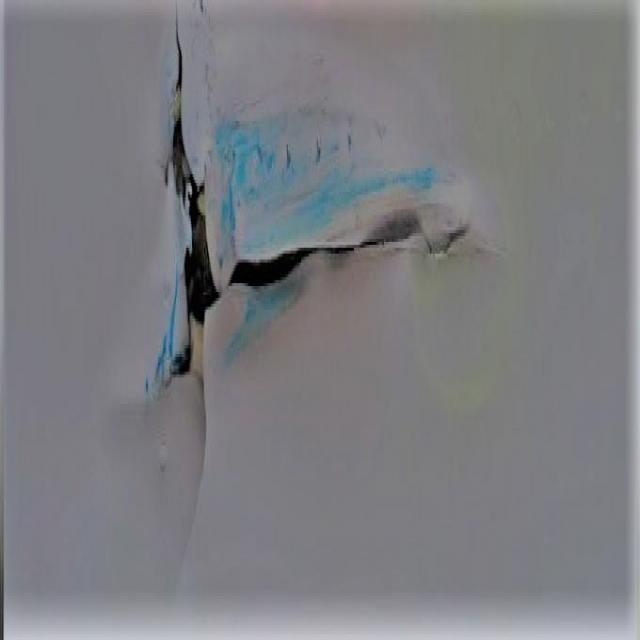crack: (158, 27, 506, 454)
